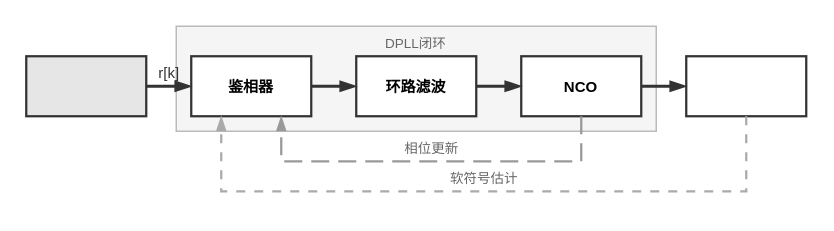
The diagram is 834 pixels wide and 231 high, and some of its shapes have lost their labels. Here are the shapes that lost their labels. From the top down, the centre of each, then its label:
point 85,85: 接收信号
point 745,85: LDPC译码
